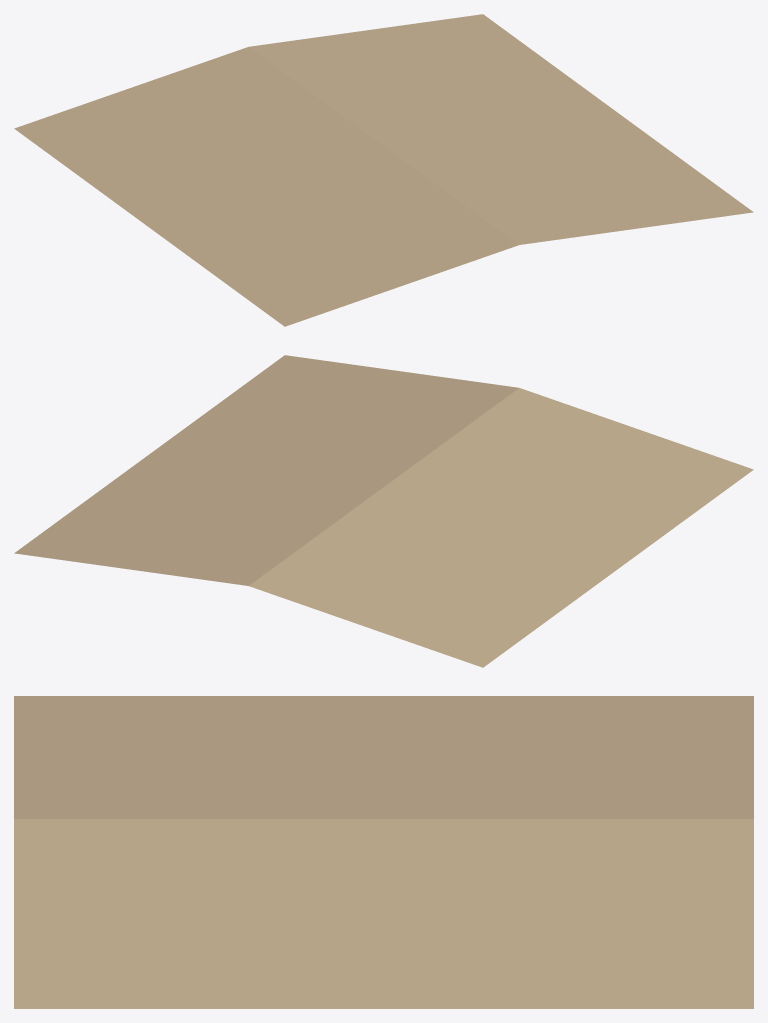
Rendered from Shared_Terrain_Dirt_Gathered_Straight.fbx.
3 renders of one model, top to bottom at view 1: azimuth 30°, elevation 25°; view 2: azimuth 150°, elevation 25°; view 3: azimuth 270°, elevation 25°, orthographic. The views are drawn at different scales.
Visible parts, largest first — view 1: object1; view 2: object1; view 3: object1.
Part boxes in pixels (bbox=[...]): object1: bbox=[14, 14, 753, 326]; object1: bbox=[14, 355, 753, 667]; object1: bbox=[14, 696, 753, 1008].
Size of the model in its own units: 1 by 0.05 by 1.
